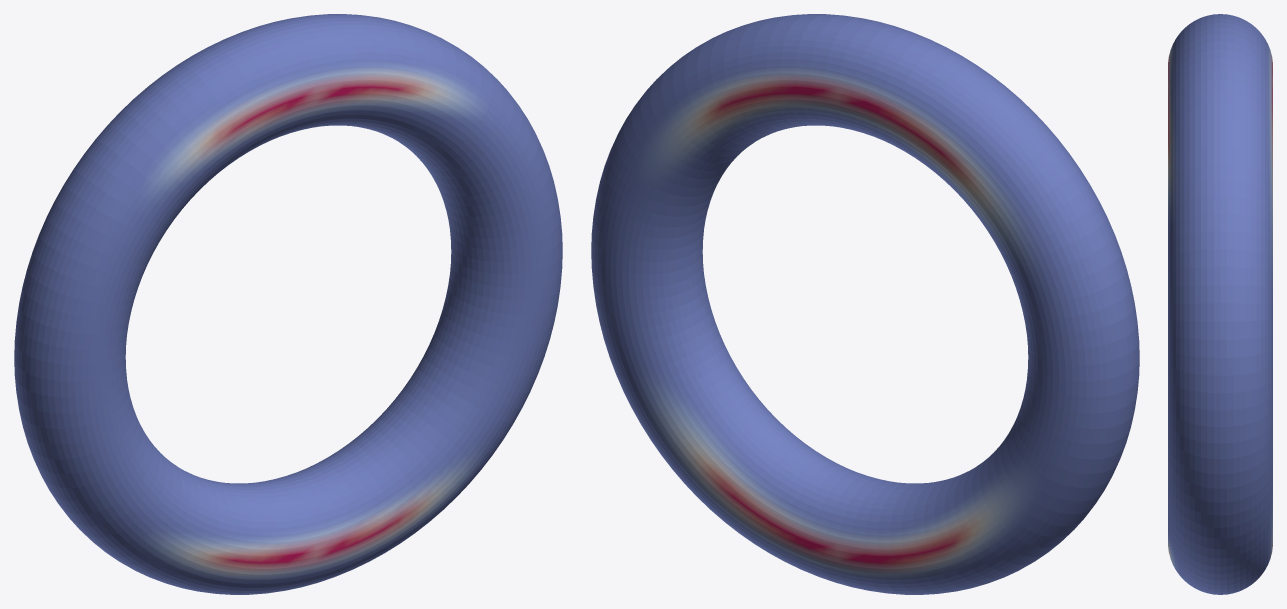
3 views of the same model, side by side, from view 1: azimuth 30°, elevation 25°; view 2: azimuth 150°, elevation 25°; view 3: azimuth 270°, elevation 25° (orthographic). The views are drawn at different scales.
Visible parts, largest first — view 1: world; view 2: world; view 3: world.
Part boxes in pixels (x1,y1,x2,y2): world: [14, 14, 562, 594]; world: [591, 14, 1139, 594]; world: [1168, 14, 1272, 594].
Bounding box in the file's own units: 15.47 × 15.47 × 2.79.
